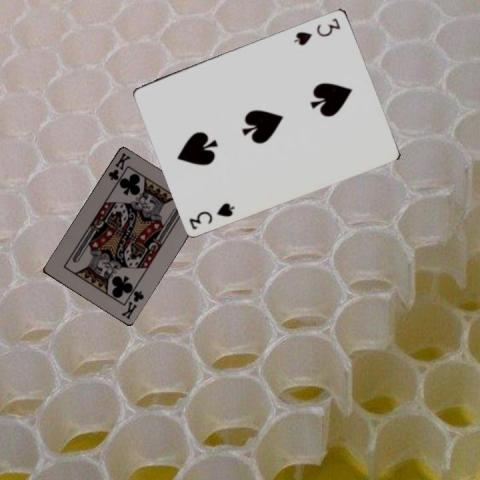3s: (291, 14, 342, 46), (186, 199, 236, 231)
Kc: (105, 150, 133, 182), (118, 288, 145, 321)
